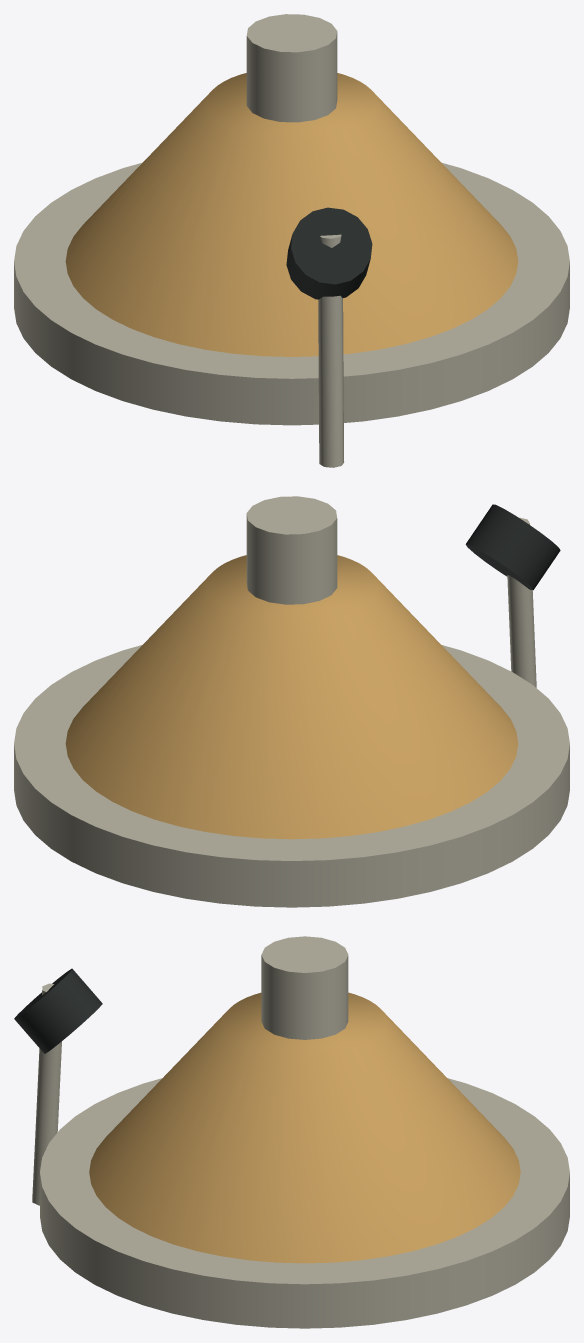
Rendered from Executive.glb.
The picture shows the model from 3 angles, top to bottom: view 1: azimuth 30°, elevation 25°; view 2: azimuth 150°, elevation 25°; view 3: azimuth 270°, elevation 25°; orthographic projection. The views are drawn at different scales.
Visible parts, largest first — view 1: Bell skirt, Dome lip, Crown, Clapper, Striker spring; view 2: Bell skirt, Dome lip, Crown, Clapper, Striker spring; view 3: Bell skirt, Dome lip, Crown, Clapper, Striker spring.
Part boxes in pixels (bbox=[...]): Bell skirt: bbox=[65, 73, 518, 356]; Dome lip: bbox=[14, 162, 569, 425]; Crown: bbox=[246, 14, 337, 122]; Clapper: bbox=[286, 207, 372, 299]; Striker spring: bbox=[318, 234, 343, 467]; Bell skirt: bbox=[65, 555, 518, 839]; Dome lip: bbox=[14, 645, 569, 907]; Crown: bbox=[246, 496, 337, 604]; Clapper: bbox=[465, 504, 560, 590]; Striker spring: bbox=[507, 517, 536, 687]; Bell skirt: bbox=[89, 992, 520, 1263]; Dome lip: bbox=[40, 1078, 569, 1328]; Crown: bbox=[261, 936, 348, 1039]; Clapper: bbox=[14, 968, 102, 1053]; Striker spring: bbox=[32, 983, 61, 1205].
Bounding box in the file's own units: 0.4874 × 0.2962 × 0.5113.
